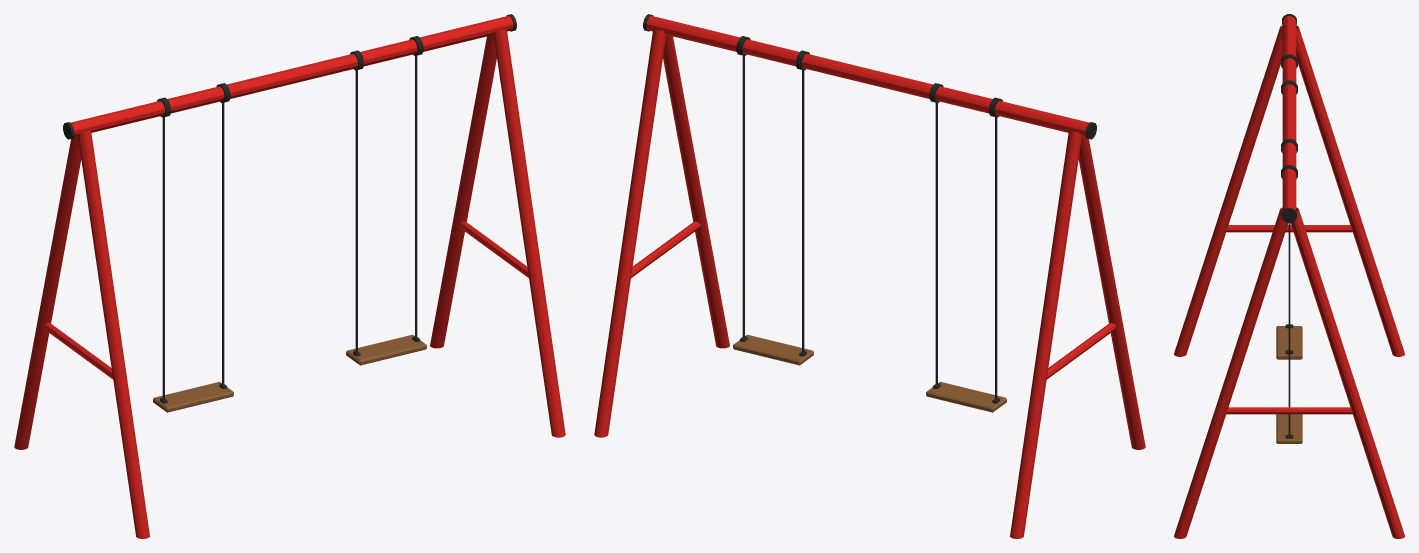
The model's file is hamaca.glb.
3 views of the same model, side by side, from view 1: azimuth 30°, elevation 25°; view 2: azimuth 150°, elevation 25°; view 3: azimuth 270°, elevation 25° (orthographic). The views are drawn at different scales.
Parts seen in each view (by area): view 1: hamaca_estructura, pieza_asiento_1, pieza_asiento_2; view 2: hamaca_estructura, pieza_asiento_1, pieza_asiento_2; view 3: hamaca_estructura, pieza_asiento_2, pieza_asiento_1.
Boxes of the visible parts, left/top/right/bottom form: hamaca_estructura: left=14, top=14, right=565, bottom=538; pieza_asiento_1: left=153, top=102, right=233, bottom=412; pieza_asiento_2: left=346, top=55, right=426, bottom=365; hamaca_estructura: left=594, top=14, right=1145, bottom=538; pieza_asiento_1: left=926, top=102, right=1006, bottom=412; pieza_asiento_2: left=733, top=55, right=813, bottom=365; hamaca_estructura: left=1174, top=14, right=1404, bottom=538; pieza_asiento_2: left=1276, top=223, right=1302, bottom=443; pieza_asiento_1: left=1276, top=324, right=1302, bottom=359.
Size of what is drawn, in the model's own units: 3 by 2.4 by 1.5.
